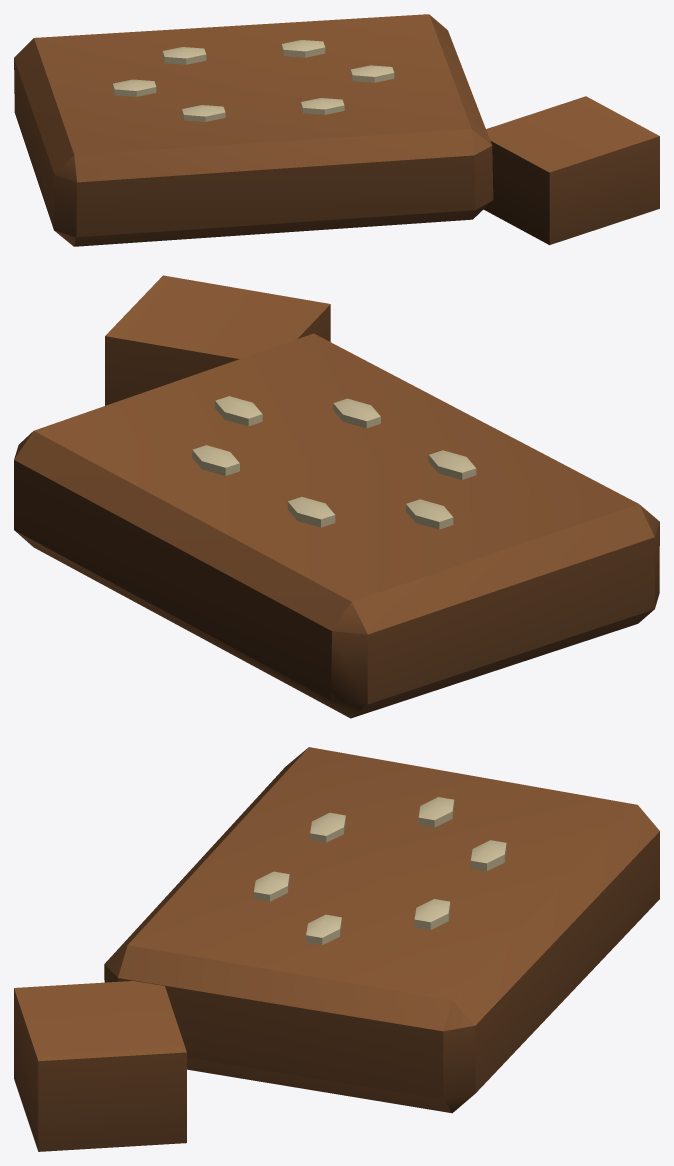
The model's file is ph_item_honey_cake.glb.
3 views of the same model, one above another, from view 1: azimuth 30°, elevation 25°; view 2: azimuth 150°, elevation 25°; view 3: azimuth 270°, elevation 25° (orthographic). The views are drawn at different scales.
Parts seen in each view (by area): view 1: ph_item_honey_cake; view 2: ph_item_honey_cake; view 3: ph_item_honey_cake.
Part boxes in pixels (left/top/right/bottom): ph_item_honey_cake: left=14, top=14, right=659, bottom=246; ph_item_honey_cake: left=14, top=275, right=659, bottom=718; ph_item_honey_cake: left=14, top=747, right=659, bottom=1151.
Size of the model in its own units: 0.2847 by 0.0558 by 0.2582.
